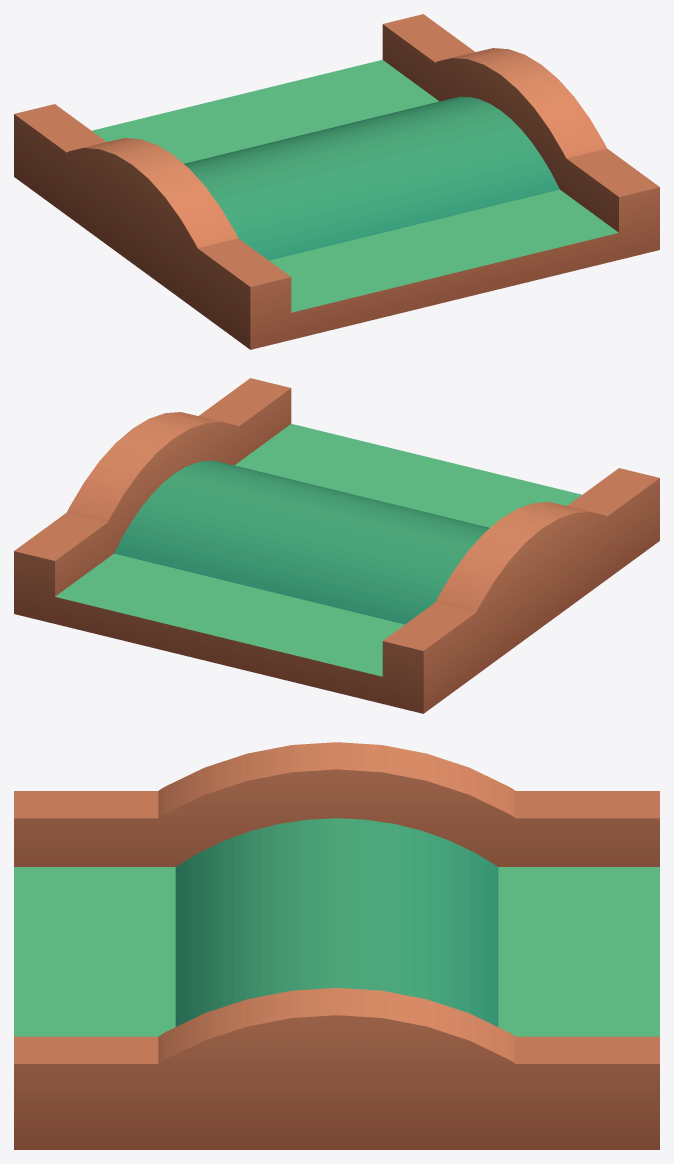
Rendered from hill-round.glb.
3 renders of one model, top to bottom at view 1: azimuth 30°, elevation 25°; view 2: azimuth 150°, elevation 25°; view 3: azimuth 270°, elevation 25°, orthographic. The views are drawn at different scales.
Visible parts, largest first — view 1: hill-round; view 2: hill-round; view 3: hill-round.
Boxes of the visible parts, bbox=[...] form: hill-round: bbox=[14, 14, 659, 349]; hill-round: bbox=[14, 378, 659, 713]; hill-round: bbox=[14, 742, 659, 1149].
Bounding box in the file's own units: 0.9999 × 0.23 × 0.9999.
Materials: 1 (1 with a texture image).
